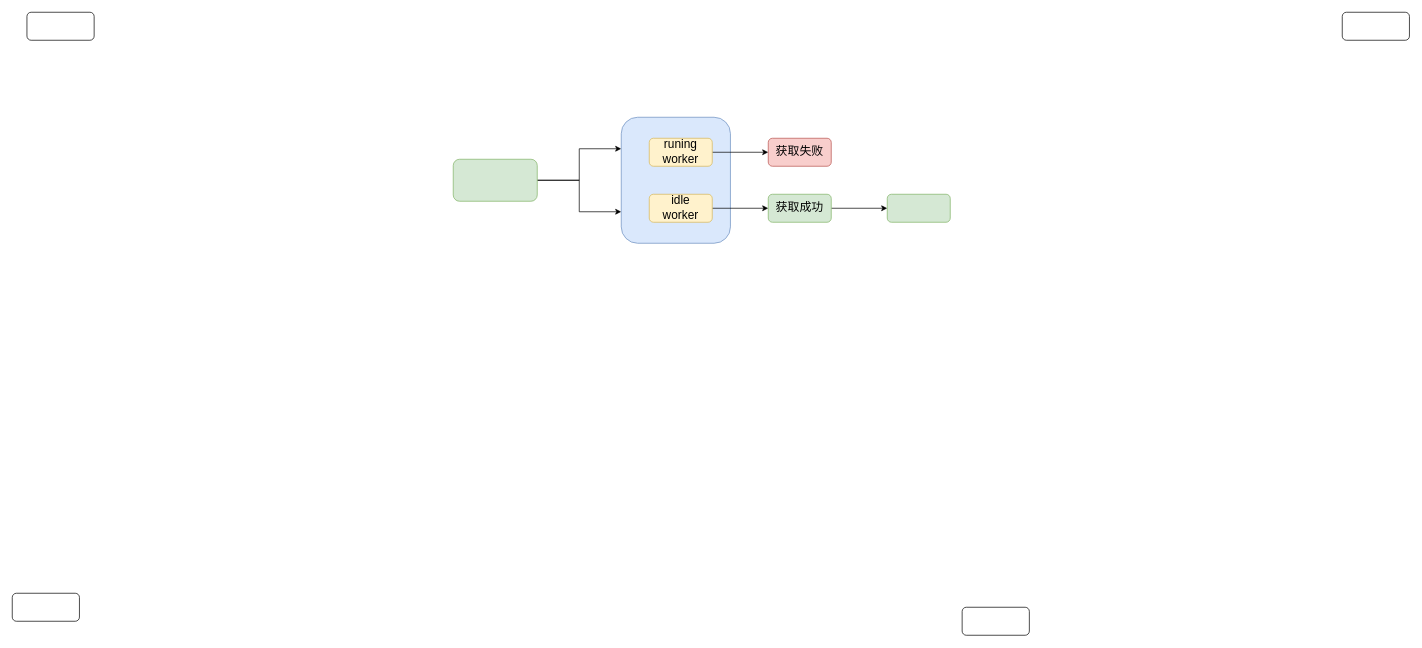
This 1422x648 diagram has some shape labels left out. The box of each missing label's shape, as (x1, y1, x2, y2) in pixels:
线程回收: (887, 194, 950, 222)
线程回收请求: (453, 159, 537, 201)
